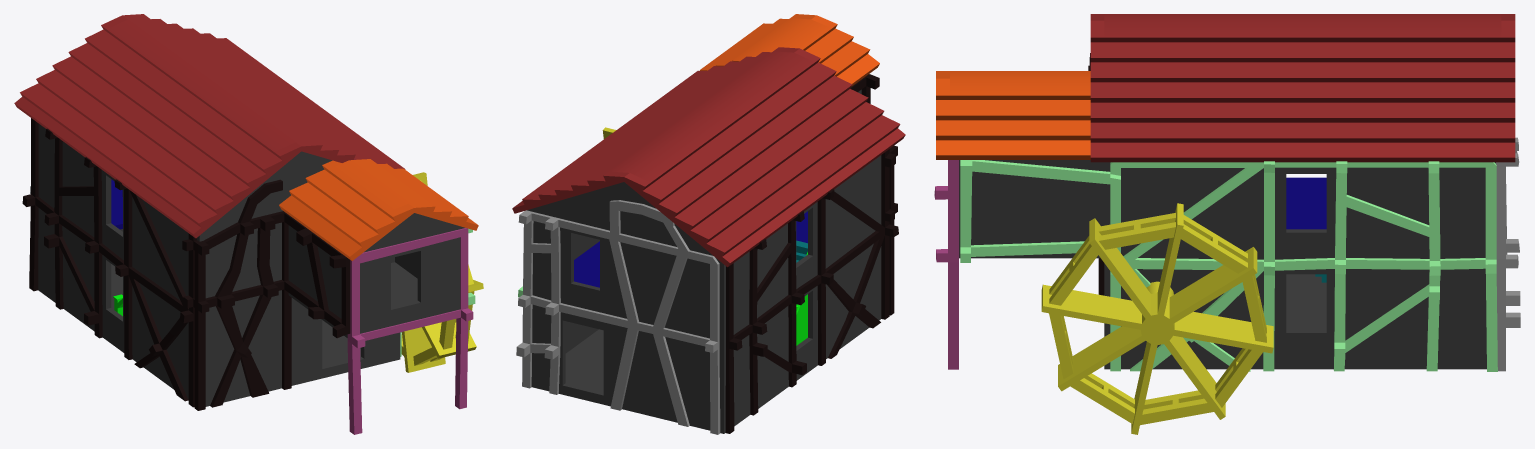
The model's file is House 2.FBX.
3 renders of one model, left to right at view 1: azimuth 30°, elevation 25°; view 2: azimuth 150°, elevation 25°; view 3: azimuth 270°, elevation 25°, orthographic. The views are drawn at different scales.
Visible parts, largest first — view 1: Walls004, Box220, Object027, Object024, Object025, Cylinder307, Box221; view 2: Walls004, Box220, Object028, Object027, Object024, Box221, Staircase; view 3: Box220, Walls004, Cylinder307, Object026, Object024, Object028, Object025, Box221.
Part boxes in pixels (box(x1,y1,x2,y2)): Walls004: box(38, 124, 464, 406); Box220: box(14, 14, 405, 238); Object027: box(22, 118, 350, 410); Object024: box(279, 159, 478, 260); Object025: box(347, 228, 473, 434); Cylinder307: box(401, 172, 483, 372); Box221: box(111, 179, 122, 229); Walls004: box(527, 89, 881, 433); Box220: box(512, 47, 905, 267); Object028: box(516, 200, 720, 434); Object027: box(725, 74, 898, 433); Object024: box(699, 14, 879, 86); Box221: box(574, 211, 807, 287); Staircase: box(796, 252, 807, 345); Box220: box(1090, 14, 1515, 162); Walls004: box(959, 160, 1495, 369); Cylinder307: box(1041, 203, 1273, 434); Object026: box(960, 160, 1497, 371); Object024: box(936, 71, 1090, 159); Object028: box(1496, 137, 1520, 371); Object025: box(934, 160, 958, 369); Box221: box(1286, 177, 1326, 229).
Size of the model in its own units: 9.45 by 8.99 by 14.89.
